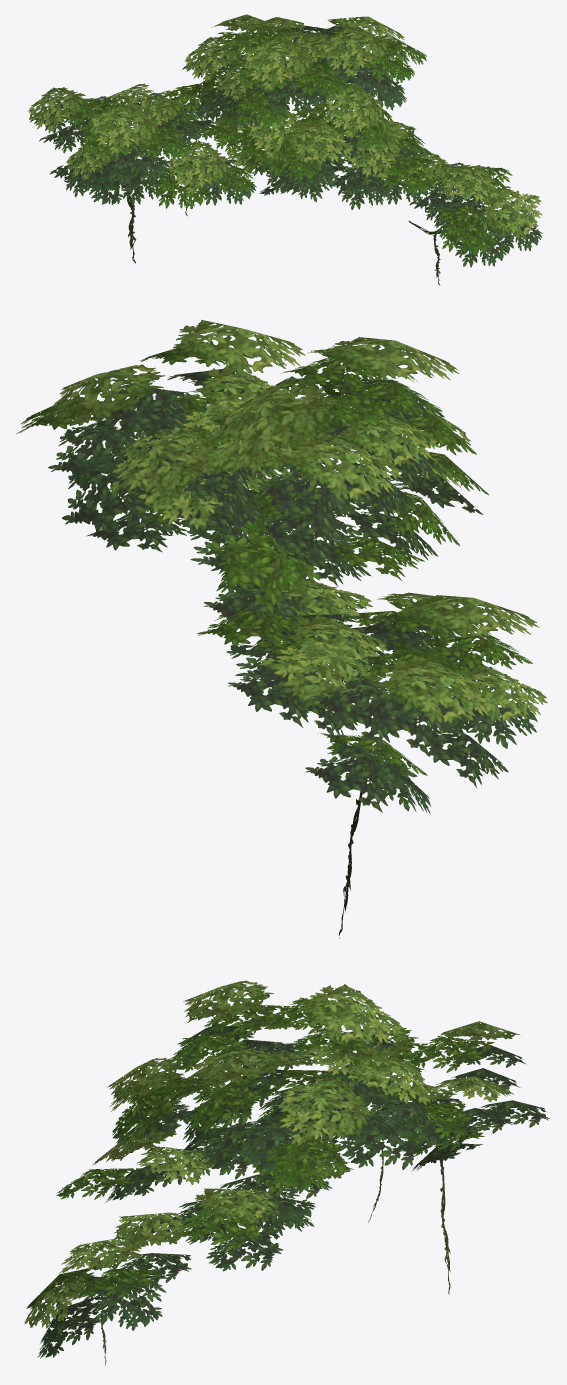
Rendered from TQT_6.FBX.
3 views of the same model, one above another, from view 1: azimuth 30°, elevation 25°; view 2: azimuth 150°, elevation 25°; view 3: azimuth 270°, elevation 25° (orthographic). The views are drawn at different scales.
Visible parts, largest first — view 1: Map01_ZhiWu_01; view 2: Map01_ZhiWu_01; view 3: Map01_ZhiWu_01.
Boxes of the visible parts, bbox=[...] form: Map01_ZhiWu_01: bbox=[27, 14, 541, 285]; Map01_ZhiWu_01: bbox=[16, 320, 547, 938]; Map01_ZhiWu_01: bbox=[24, 980, 549, 1366].
Bounding box in the file's own units: 1396 × 968 × 1360.
